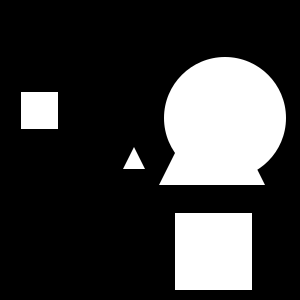circle: (175, 213, 252, 290), (21, 92, 58, 129)
rectangle: (164, 57, 286, 179)
triangle: (159, 79, 265, 185), (123, 147, 145, 169)
